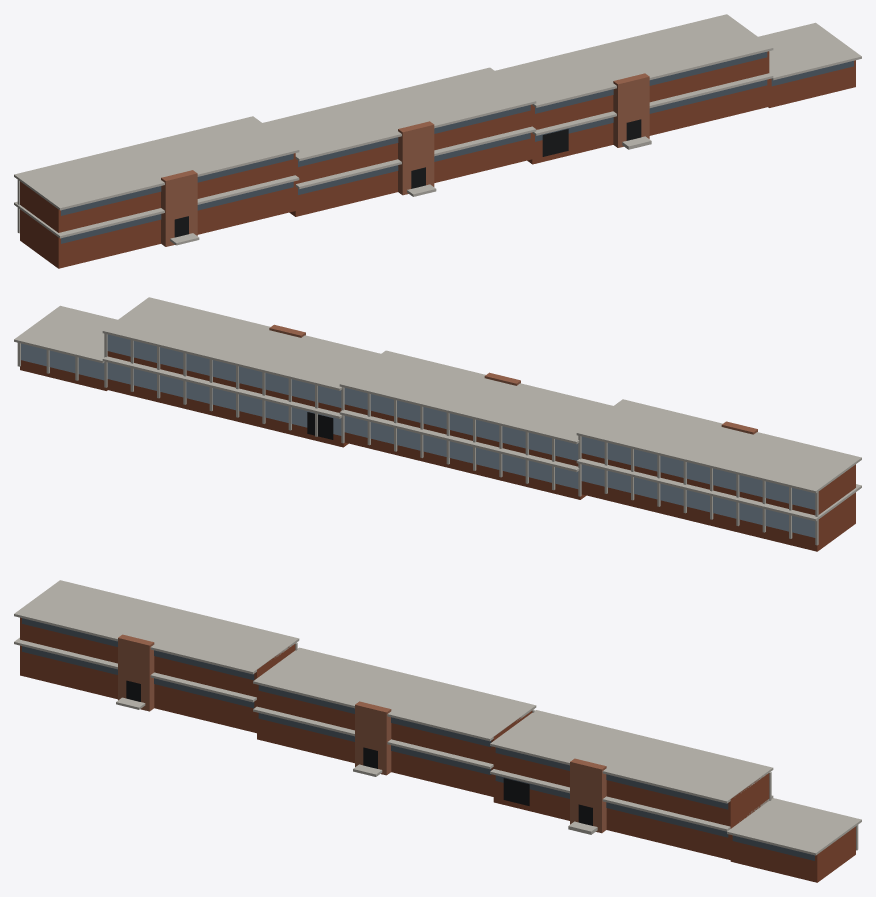
The model's file is lru-north-building-1961.glb.
3 views of the same model, one above another, from view 1: azimuth 30°, elevation 25°; view 2: azimuth 150°, elevation 25°; view 3: azimuth 330°, elevation 25° (orthographic).
Visible parts, largest first — view 1: lru_north_building_1961; view 2: lru_north_building_1961; view 3: lru_north_building_1961.
Part boxes in pixels (x1,y1,x2,y2): lru_north_building_1961: (14, 14, 861, 268); lru_north_building_1961: (14, 297, 861, 551); lru_north_building_1961: (14, 580, 861, 882).
Bounding box in the file's own units: 111 × 10.43 × 12.77.
